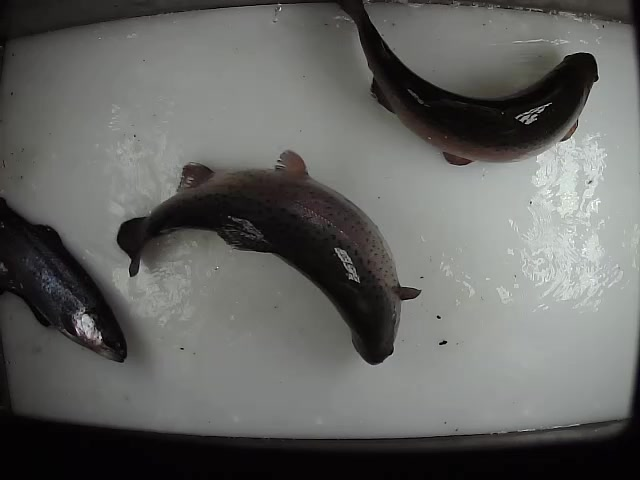fish: (116, 148, 424, 367), (336, 4, 600, 169)
